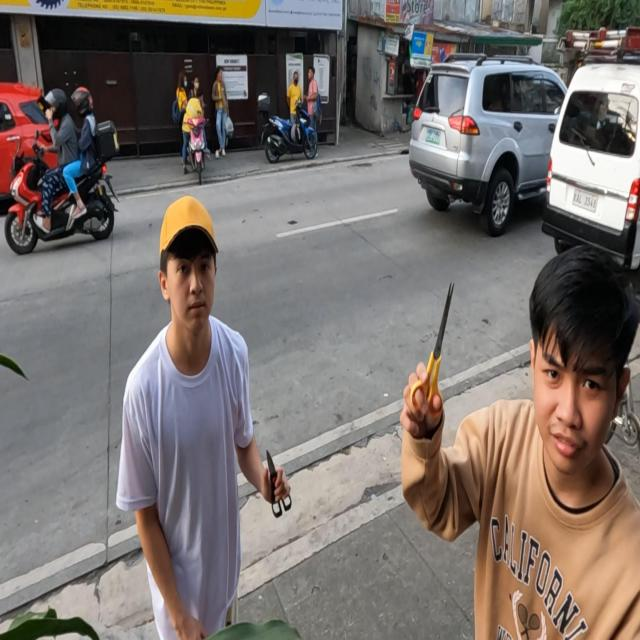scissor: (410, 278, 457, 418), (263, 447, 295, 522)
